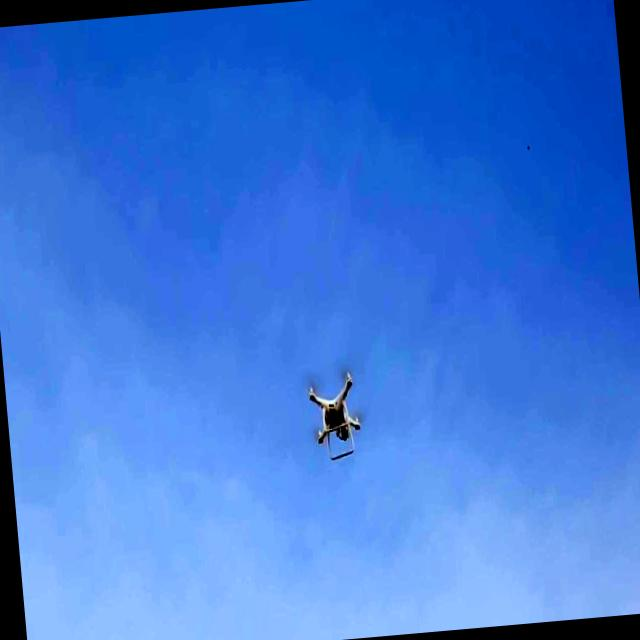drone: (304, 369, 365, 464)
